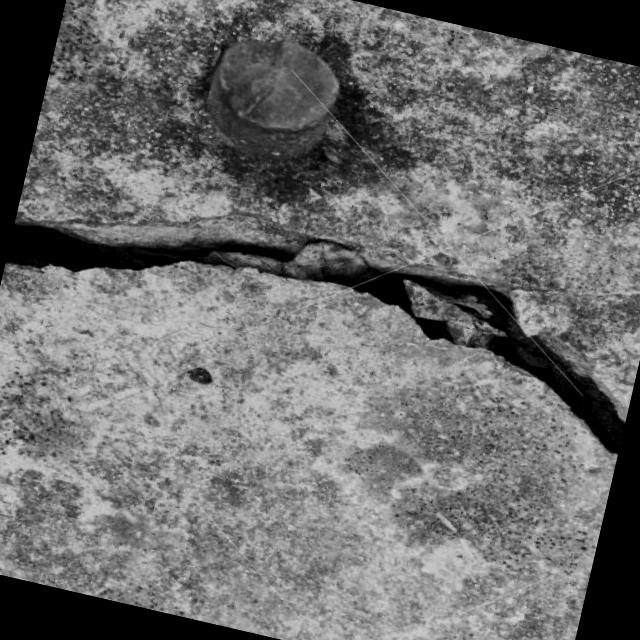spall: (0, 154, 640, 456)
